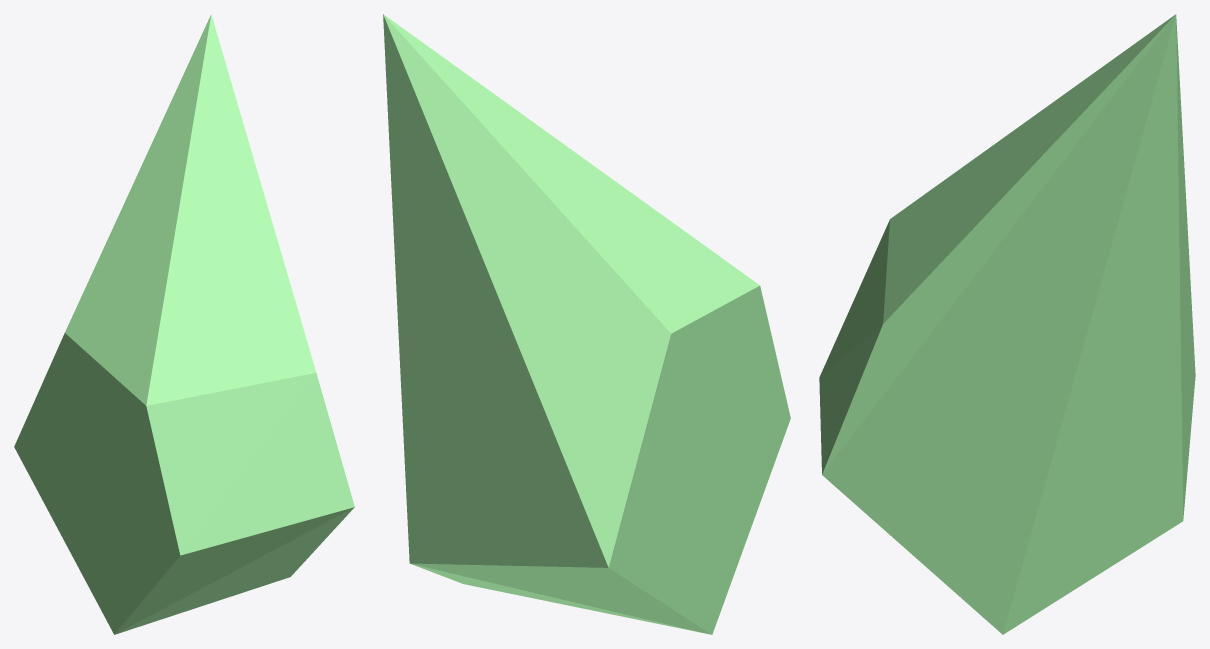
Rendered from linkhou_LR4_R560_link4_respondable_coll_1.dae.
The picture shows the model from 3 angles, left to right: view 1: azimuth 30°, elevation 25°; view 2: azimuth 150°, elevation 25°; view 3: azimuth 270°, elevation 25°; orthographic projection. The views are drawn at different scales.
Parts seen in each view (by area): view 1: Node_00000209DB3ABE50; view 2: Node_00000209DB3ABE50; view 3: Node_00000209DB3ABE50.
Boxes of the visible parts, x1=… form: Node_00000209DB3ABE50: x1=14, y1=14, x2=354, y2=634; Node_00000209DB3ABE50: x1=383, y1=14, x2=790, y2=634; Node_00000209DB3ABE50: x1=819, y1=14, x2=1195, y2=634.
Bounding box in the file's own units: 0.0117 × 0.0292 × 0.0161.
